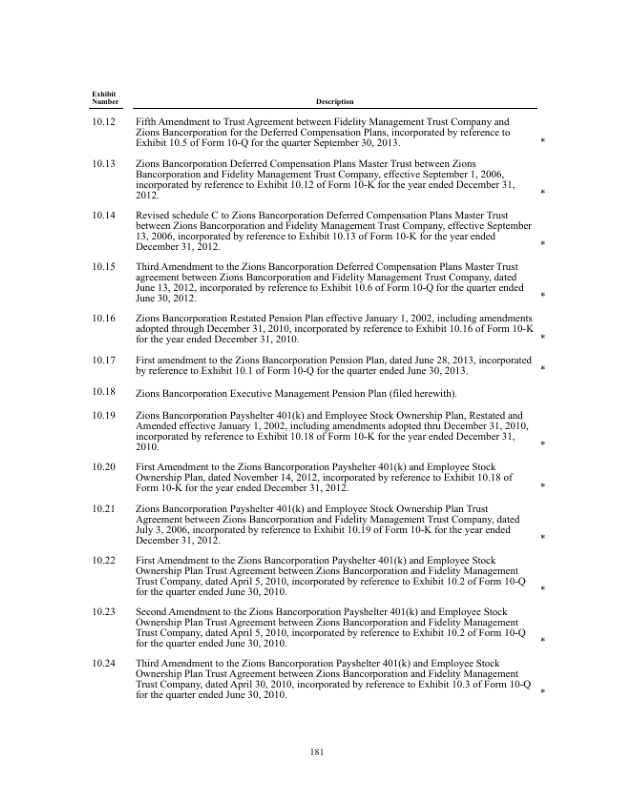table: (78, 86, 549, 708)
